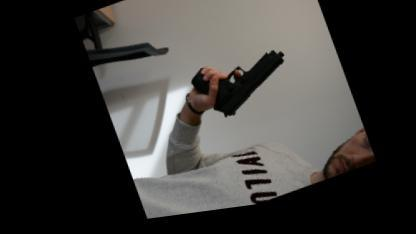pistol: (181, 45, 296, 131)
